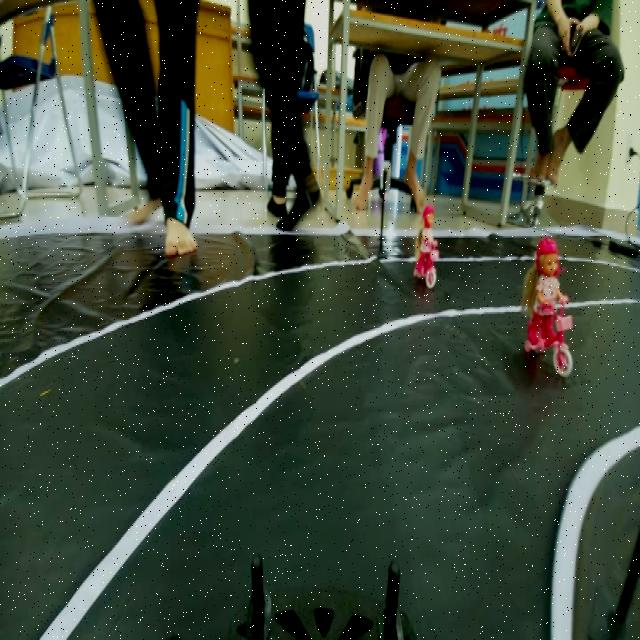pedestrian: (513, 234, 579, 376), (411, 200, 441, 276)
